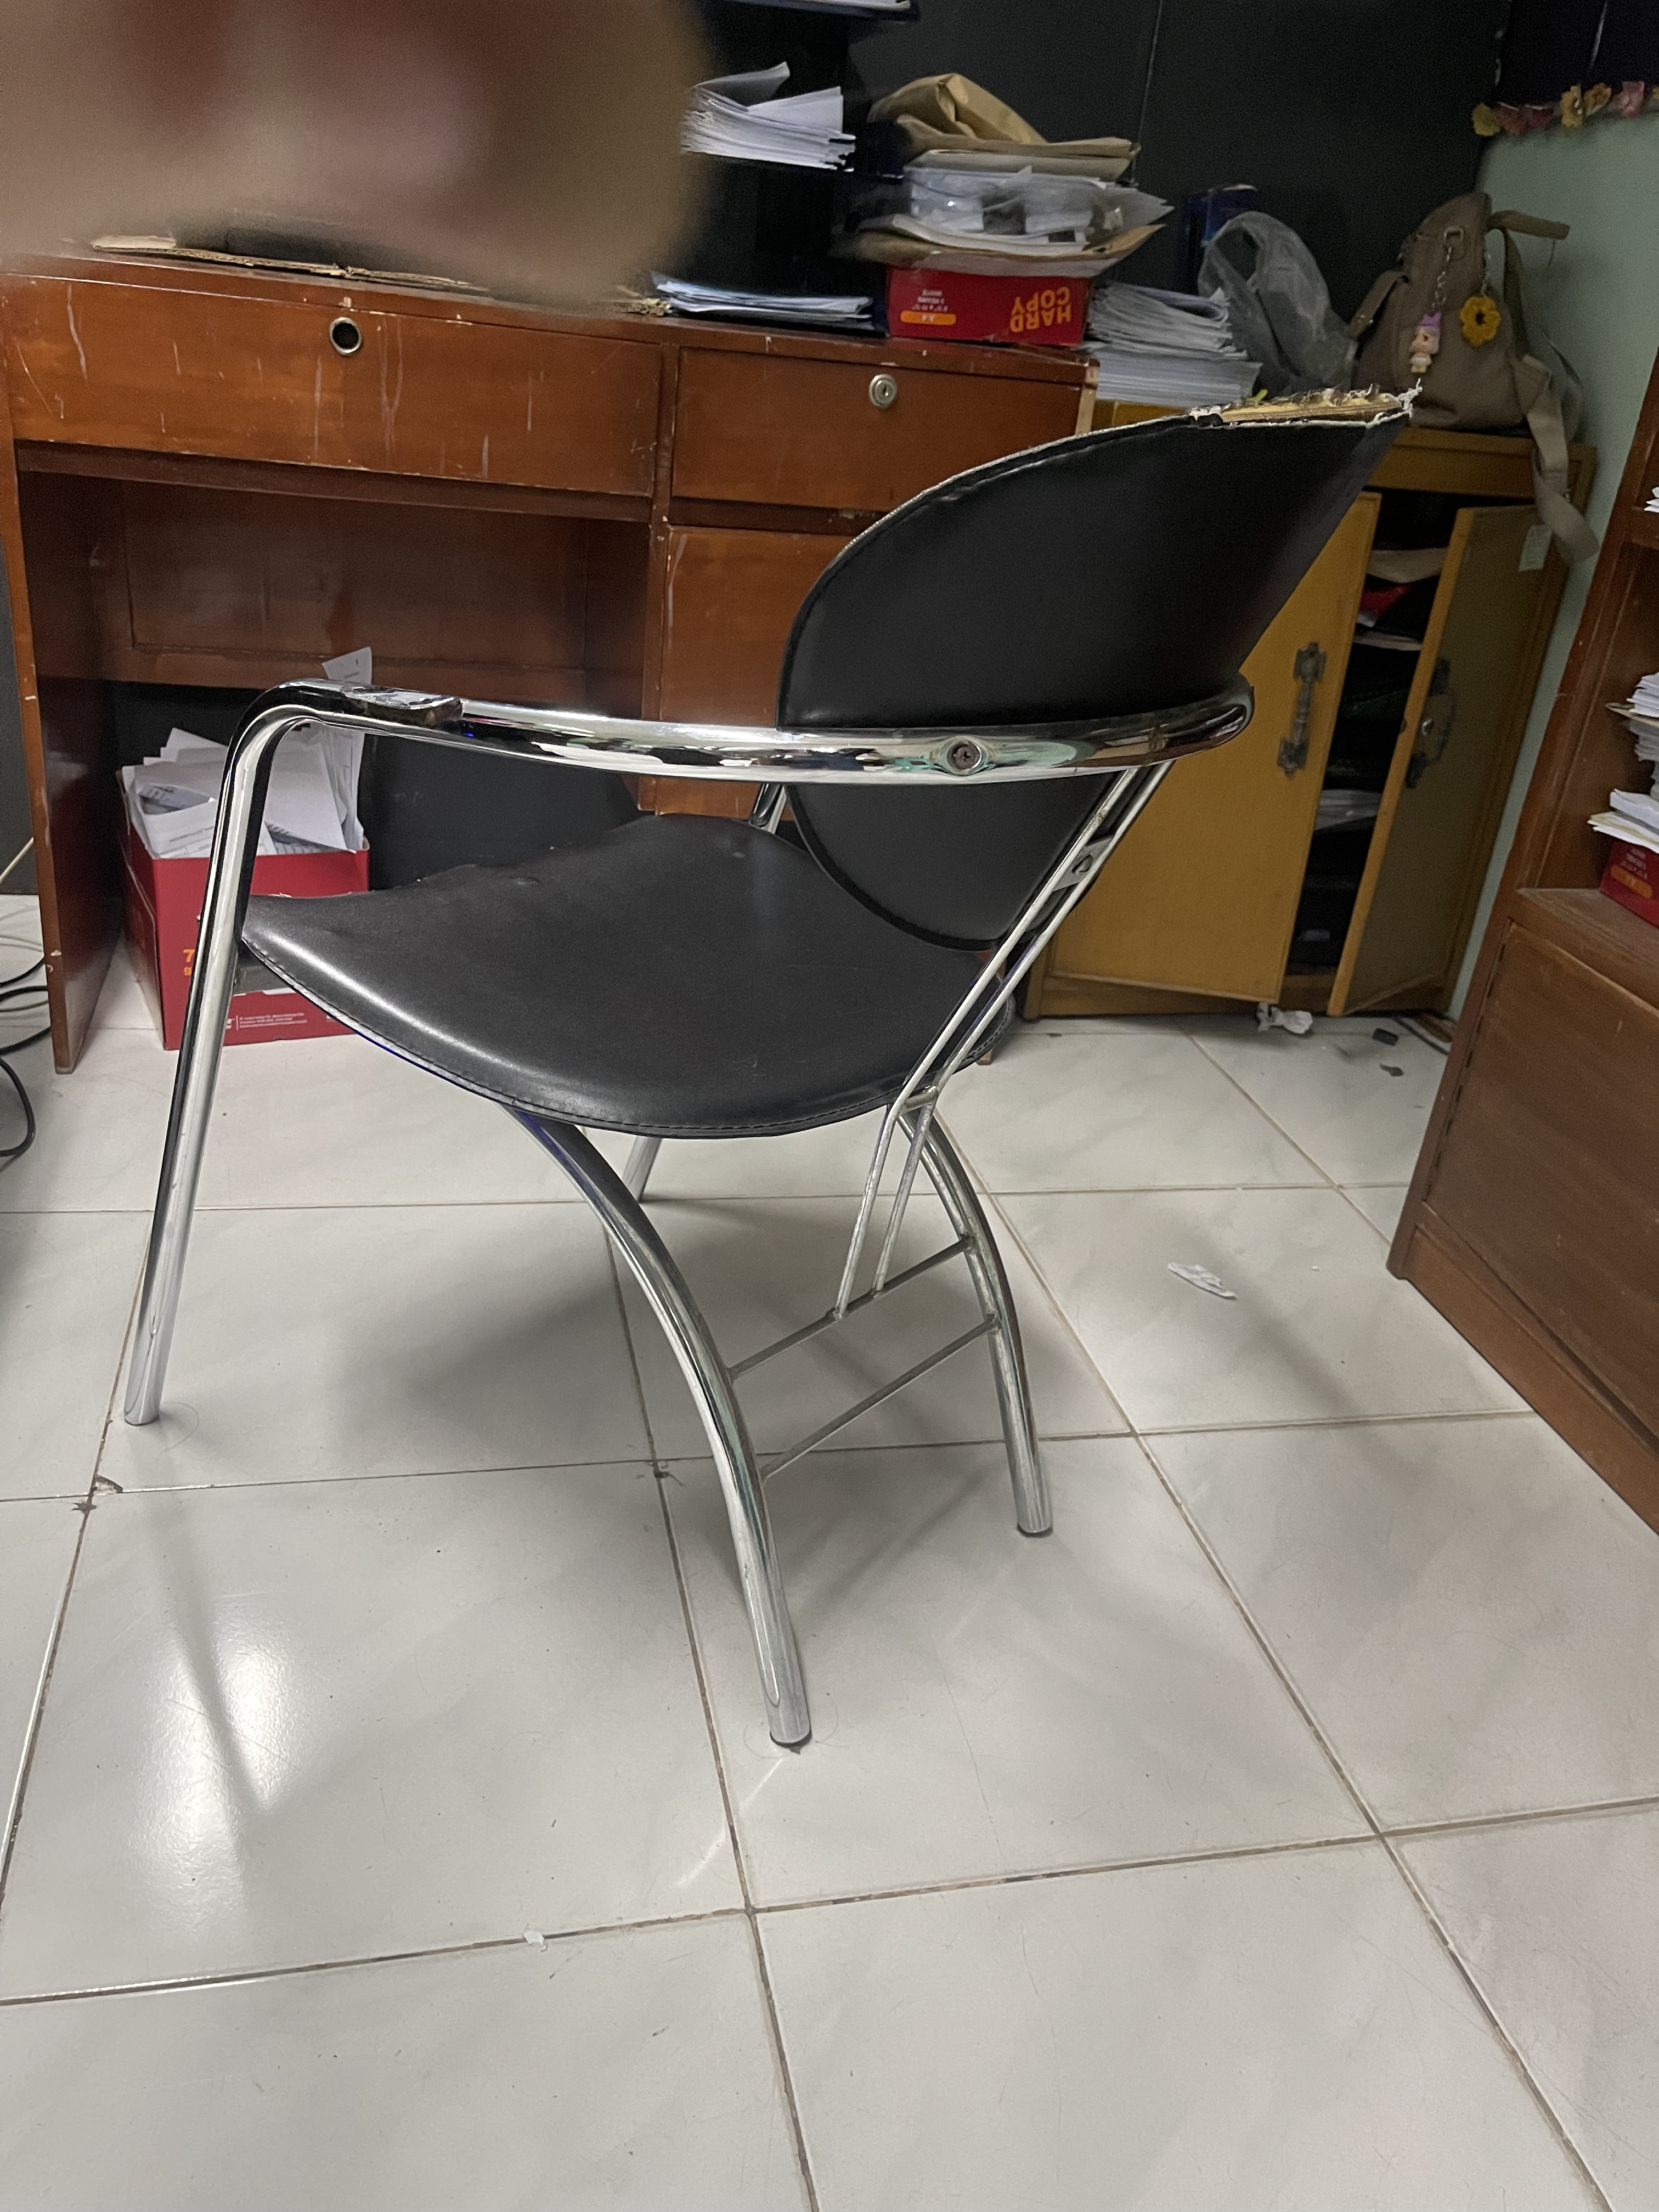chair1: (131, 402, 1420, 1752)
